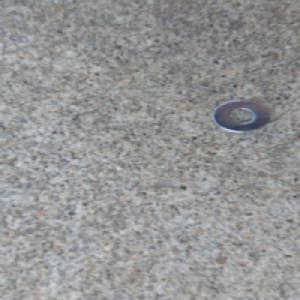Washer: (208, 98, 272, 134)
